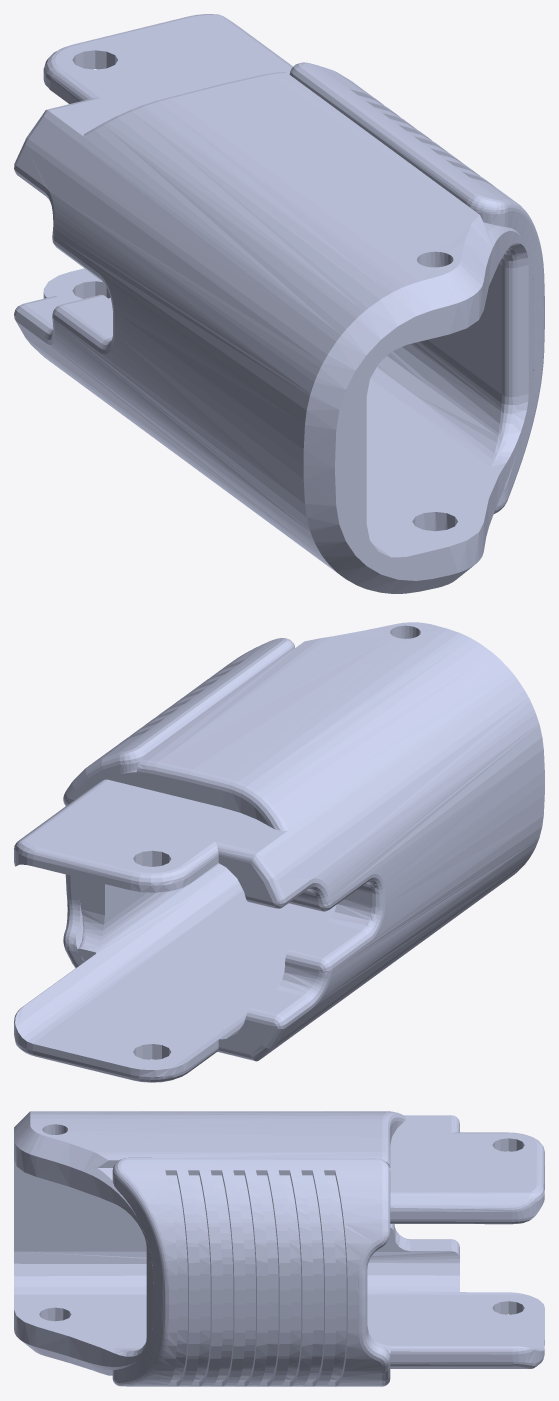
File: lh_index_proximal_vis.obj
3 renders of one model, top to bottom at view 1: azimuth 30°, elevation 25°; view 2: azimuth 150°, elevation 25°; view 3: azimuth 270°, elevation 25°, orthographic. The views are drawn at different scales.
Visible parts, largest first — view 1: lh_index_proximal; view 2: lh_index_proximal; view 3: lh_index_proximal.
Boxes of the visible parts, x1,y1,x2,y2 form: lh_index_proximal: (14, 14, 544, 593); lh_index_proximal: (14, 622, 544, 1082); lh_index_proximal: (14, 1111, 544, 1386).
Bounding box in the file's own units: 0.017 × 0.0154 × 0.0328.
Materials: 1 (1 with a texture image).
